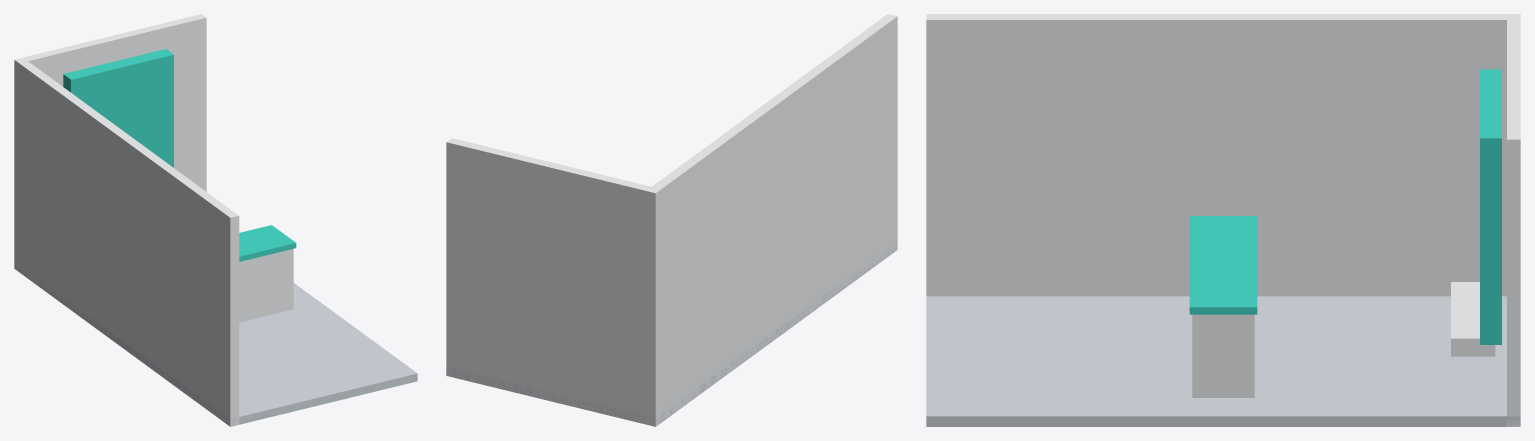
3 renders of one model, left to right at view 1: azimuth 30°, elevation 25°; view 2: azimuth 150°, elevation 25°; view 3: azimuth 270°, elevation 25°, orthographic. The views are drawn at different scales.
Parts seen in each view (by area): view 1: Exhibition Booth Concept; view 2: Exhibition Booth Concept; view 3: Exhibition Booth Concept.
Part boxes in pixels (<box>): Exhibition Booth Concept: <box>14,14,417,426</box>; Exhibition Booth Concept: <box>446,14,897,426</box>; Exhibition Booth Concept: <box>926,14,1520,426</box>.
Bounding box in the file's own units: 3 × 3.2 × 6.
